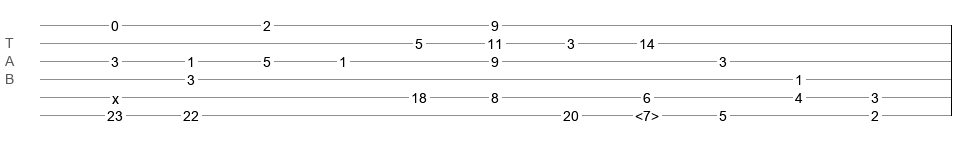0: (111, 18, 119, 28)
1: (187, 54, 195, 64), (339, 54, 347, 64), (795, 72, 803, 82)
11: (487, 36, 503, 46)
14: (639, 36, 655, 46)
18: (411, 90, 427, 100)
2: (263, 18, 271, 28), (871, 108, 879, 118)
20: (563, 108, 579, 118)
22: (183, 108, 199, 118)
23: (107, 108, 123, 118)
3: (111, 54, 119, 64), (187, 72, 195, 82), (567, 36, 575, 46), (719, 54, 727, 64), (871, 90, 879, 100)
4: (795, 90, 803, 100)
5: (263, 54, 271, 64), (415, 36, 423, 46), (719, 108, 727, 118)
6: (643, 90, 651, 100)
8: (491, 90, 499, 100)
9: (491, 18, 499, 28), (491, 54, 499, 64)
harmonic: (635, 108, 659, 118)
x: (112, 91, 119, 99)
